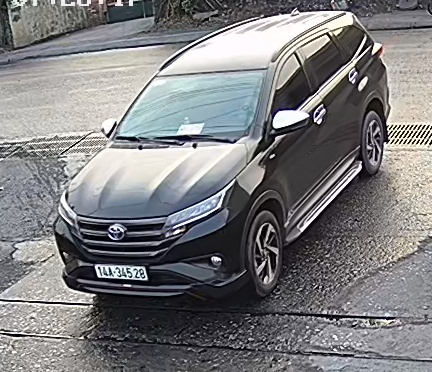vehicle plate: (92, 261, 150, 284)
